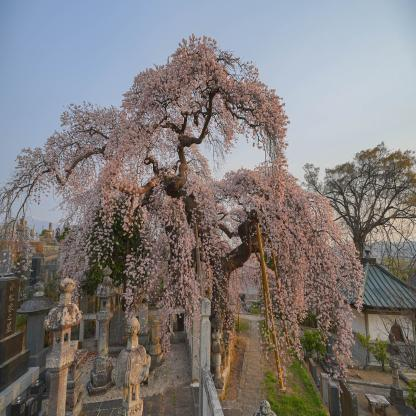ShidareZakura: (1, 31, 366, 388)
